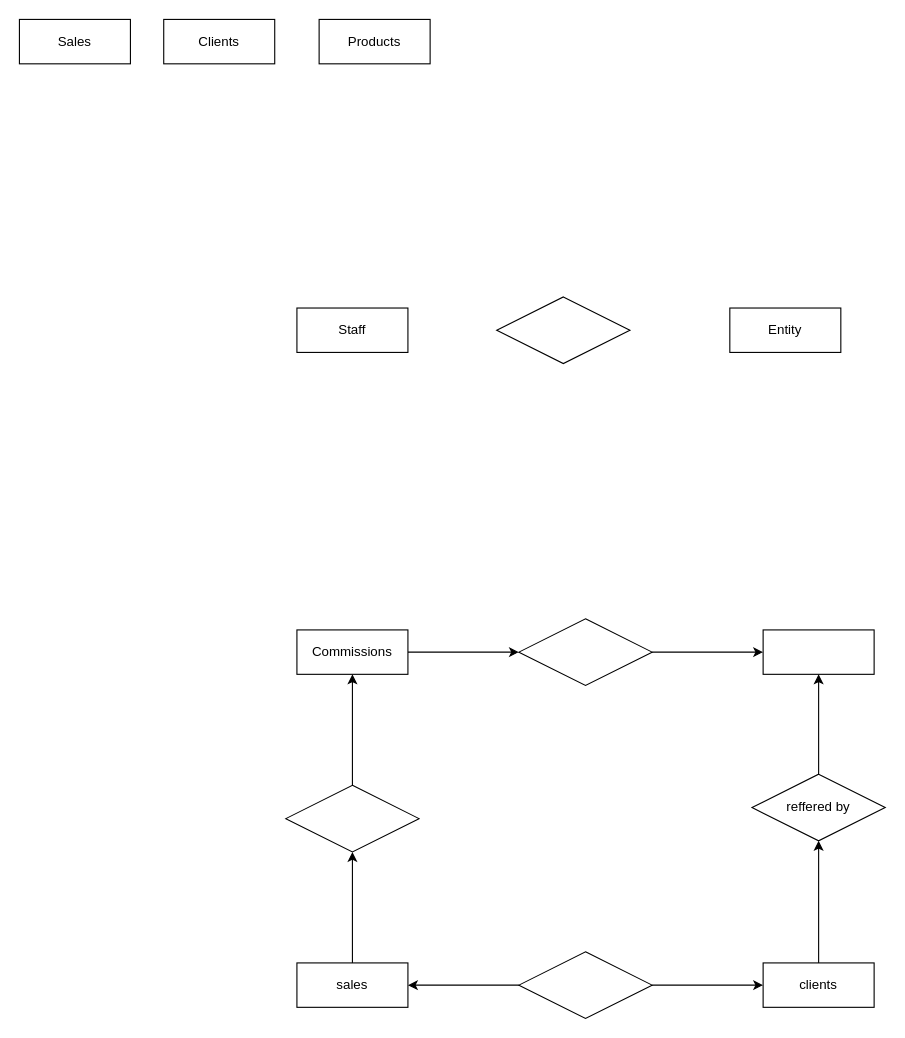
This 905x1038 diagram has some shape labels left out. The shapes that lost their labels are listed below. From the top down, each one's centre as x and y in pixels, then its label:
At [563,330]: "Relationship".
At [585,651]: "paid to".
At [818,651]: "associates".
At [352,818]: "earned".
At [585,984]: "bought".
